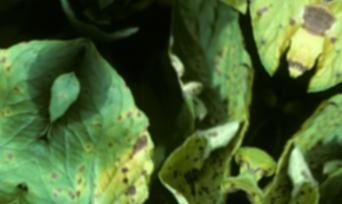Tomato Septoria leaf spot: (9, 42, 202, 204), (130, 91, 272, 204), (186, 0, 333, 99)
